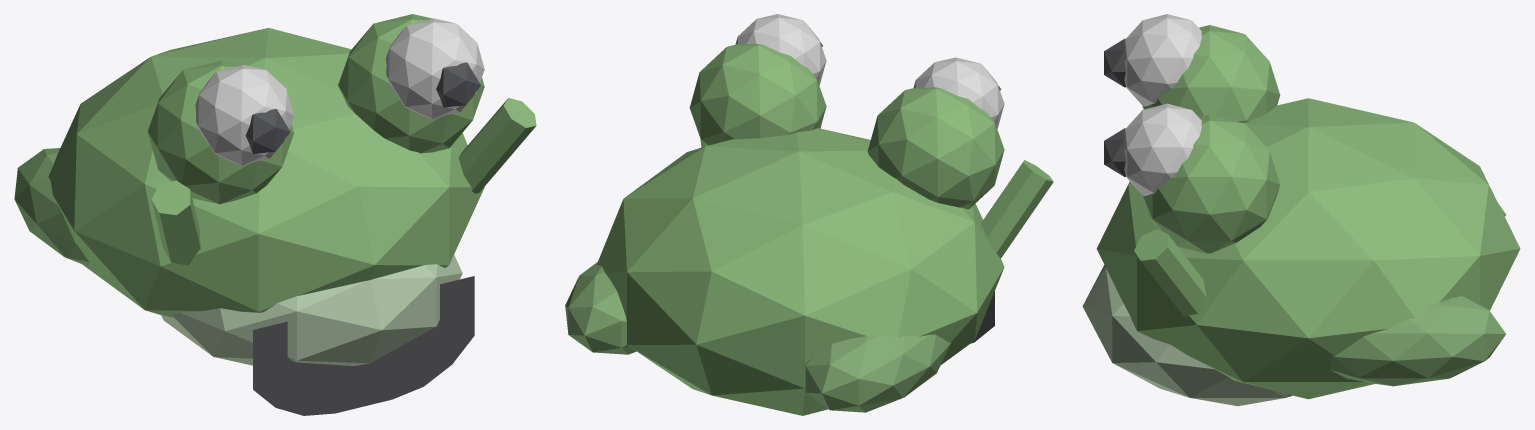
The model's file is hylarana-erythraea.glb.
3 views of the same model, side by side, from view 1: azimuth 30°, elevation 25°; view 2: azimuth 150°, elevation 25°; view 3: azimuth 270°, elevation 25° (orthographic). The views are drawn at different scales.
Visible parts, largest first — view 1: body, belly, smile, eyebump-1, eyebump1, eyeball1, eyeball-1, thigh-1, arm1, arm-1, pupil1, pupil-1; view 2: body, eyebump-1, eyebump1, thigh-1, thigh1, arm-1, eyeball-1, eyeball1; view 3: body, eyebump1, thigh1, belly, eyebump-1, eyeball1, eyeball-1, arm1, pupil-1, pupil1.
Part boxes in pixels (x1,y1,x2,y2): body: (48, 28, 484, 317); belly: (161, 254, 462, 365); smile: (253, 276, 474, 415); eyebump-1: (147, 60, 294, 204); eyebump1: (338, 14, 484, 153); eyeball1: (386, 18, 484, 118); eyeball-1: (195, 65, 293, 165); thigh-1: (14, 148, 89, 266); arm1: (458, 98, 536, 193); arm-1: (151, 180, 200, 265); pupil1: (436, 62, 480, 107); pupil-1: (245, 109, 290, 153); body: (597, 128, 1004, 415); eyebump-1: (867, 87, 1004, 209); eyebump1: (689, 43, 826, 145); thigh-1: (805, 334, 950, 412); thigh1: (565, 262, 636, 354); arm-1: (981, 160, 1053, 258); eyeball-1: (913, 57, 1004, 128); eyeball1: (735, 14, 826, 85); body: (1096, 98, 1520, 399); eyebump1: (1142, 114, 1280, 253); thigh1: (1330, 296, 1505, 386); belly: (1082, 265, 1292, 406); eyebump-1: (1142, 25, 1280, 122); eyeball1: (1123, 103, 1201, 195); eyeball-1: (1123, 14, 1201, 106); arm1: (1134, 229, 1206, 316); pupil-1: (1104, 38, 1125, 87); pupil1: (1104, 128, 1125, 176).
Size of the model in its own units: 0.6003 by 0.515 by 0.62.
